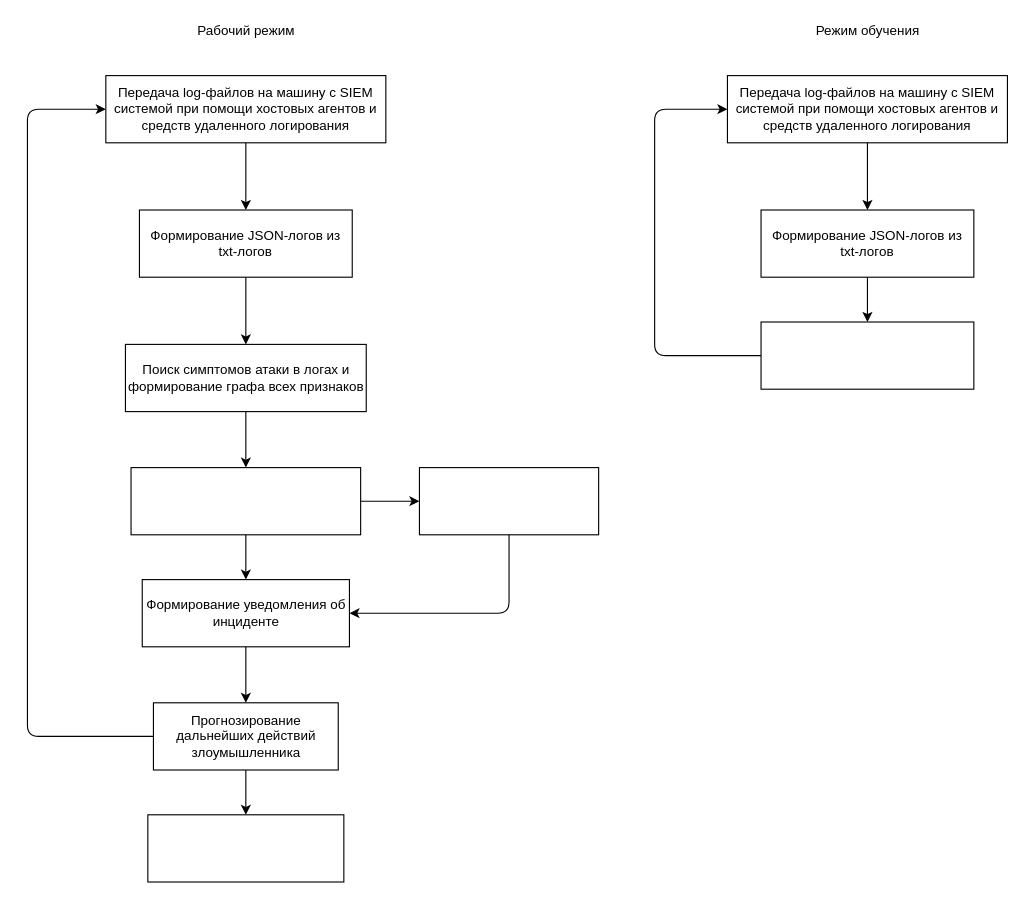
This 1027x902 diagram has some shape labels left out. The box of each missing label's shape, as (x1, y1, x2, y2) in pixels:
Вывод информации пользователю: (147, 814, 344, 882)
Обучение нейронной сети во время стабильной работы сегмента сети: (760, 321, 974, 389)
Поиск взаимосвязей между симптомами и формирование вектора атаки: (130, 466, 361, 535)
Сверка с результатами работы нейронной сети: (418, 466, 599, 535)
